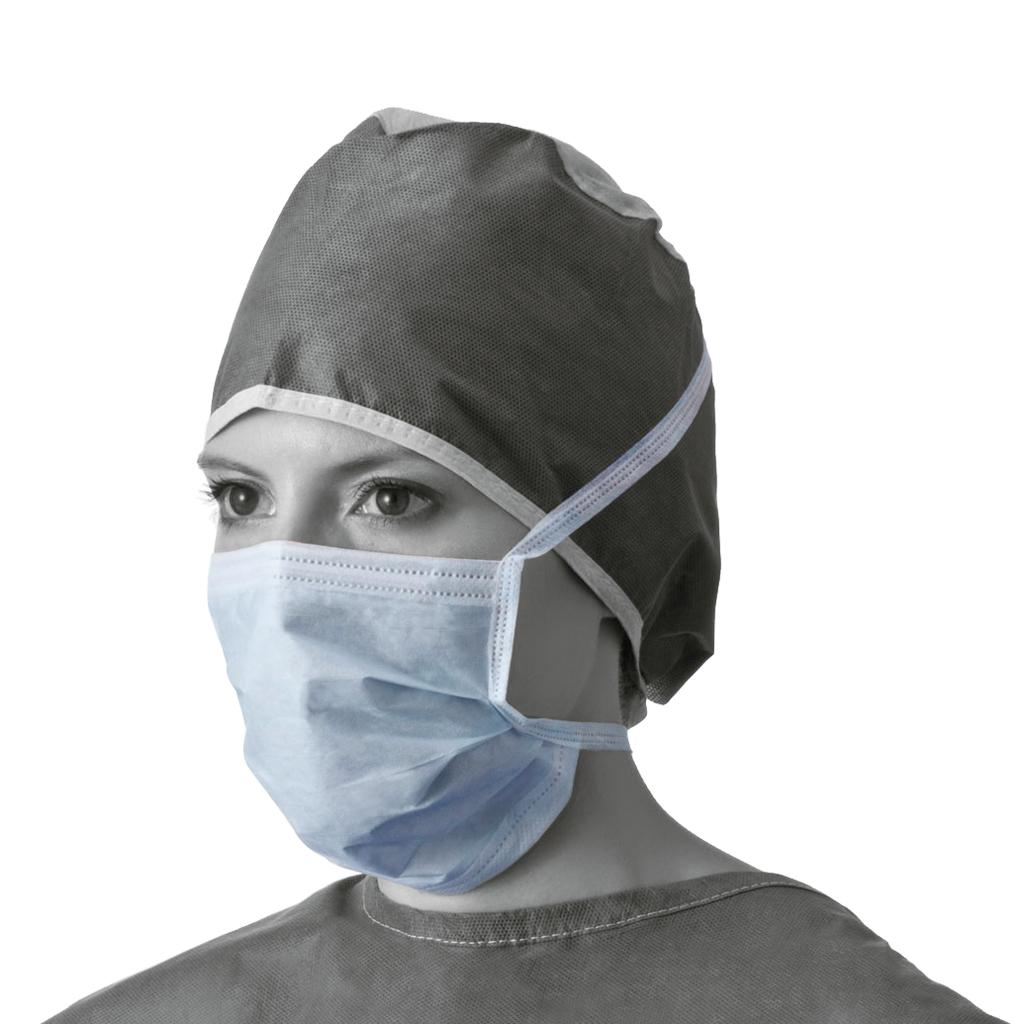Wearing Mask: (85, 22, 880, 922)
